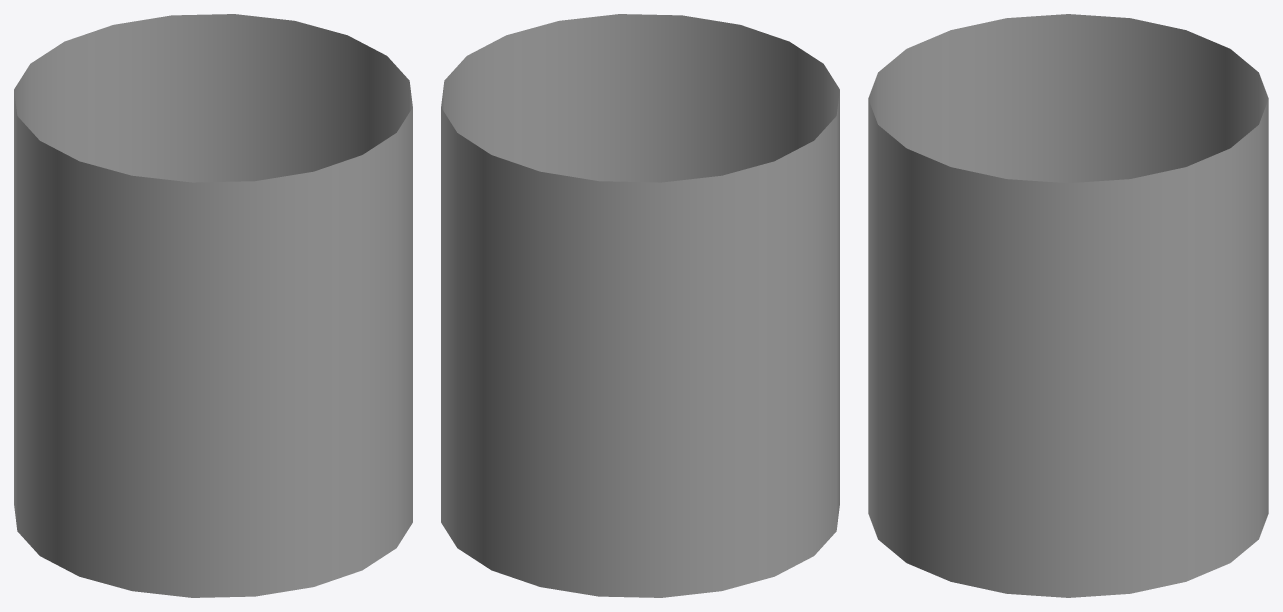
Rendered from tube_double.glb.
3 views of the same model, side by side, from view 1: azimuth 30°, elevation 25°; view 2: azimuth 150°, elevation 25°; view 3: azimuth 270°, elevation 25° (orthographic).
Parts seen in each view (by area): view 1: body; view 2: body; view 3: body.
Boxes of the visible parts, left/top/right/bottom form: body: left=14, top=14, right=412, bottom=597; body: left=441, top=14, right=839, bottom=597; body: left=868, top=14, right=1268, bottom=597.
Bounding box in the file's own units: 0.7 × 0.8 × 0.7.
Materials: 1 (1 with a texture image).
